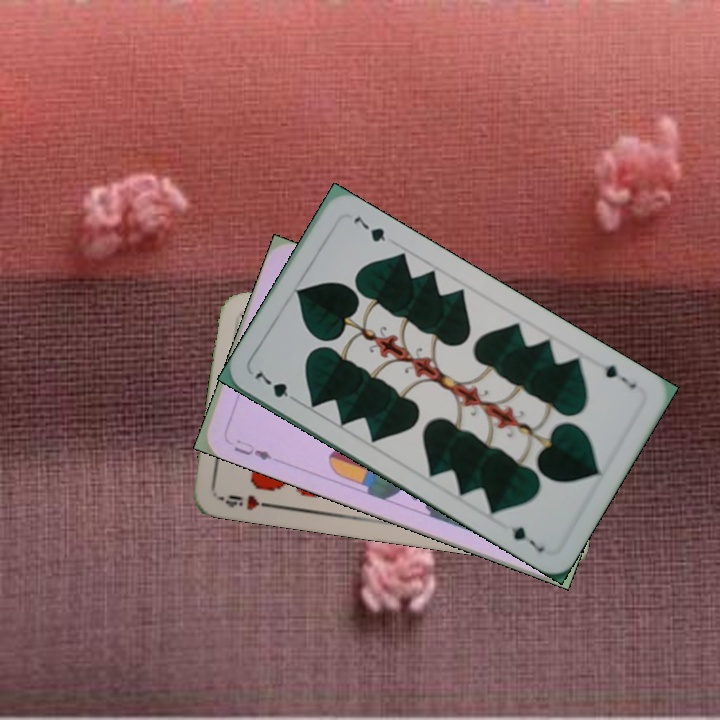EU: (222, 434, 274, 463)
G7: (250, 367, 302, 405), (600, 360, 639, 392)
H9: (216, 491, 275, 513)
